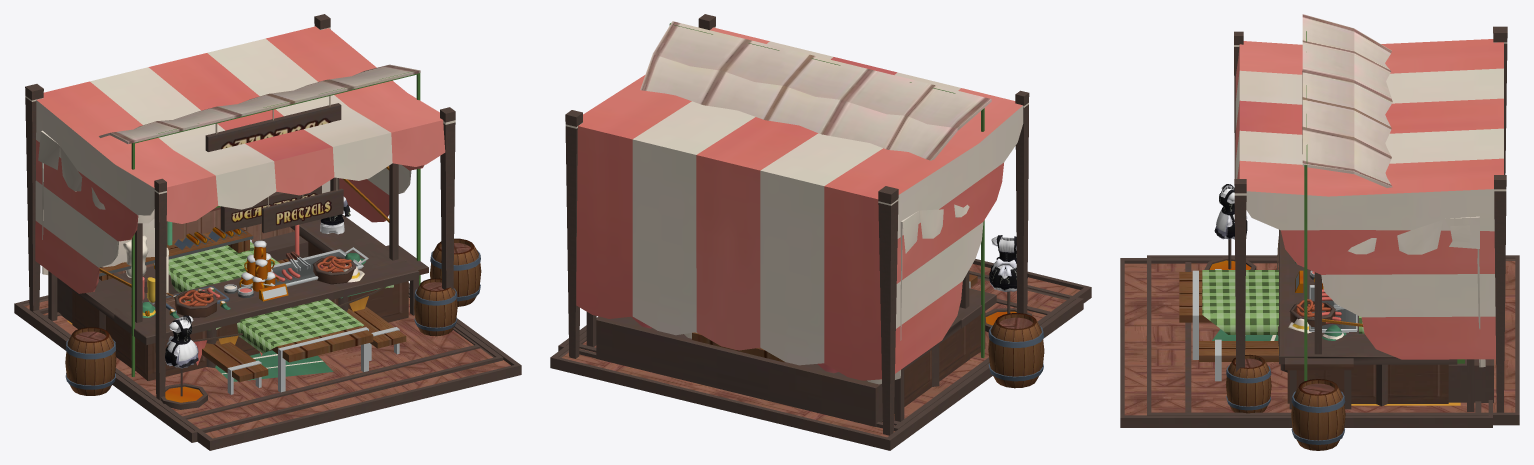
Rendered from props.glb.
3 renders of one model, left to right at view 1: azimuth 30°, elevation 25°; view 2: azimuth 150°, elevation 25°; view 3: azimuth 270°, elevation 25°, orthographic. The views are drawn at different scales.
Visible parts, largest first — view 1: Booth_Pretzelgame, Booth_Food02, Booth_Wearables, Table_Dinner, Barrel_Beer_Mountain, Booth_Wearables_Platform01; view 2: Booth_Pretzelgame, Booth_Food02, Booth_Wearables, Table_Dinner; view 3: Booth_Pretzelgame, Booth_Wearables, Booth_Food02, Table_Dinner.
Boxes of the visible parts, <box> form: Booth_Pretzelgame: <box>14,14,503,442</box>; Booth_Food02: <box>45,64,480,419</box>; Booth_Wearables: <box>32,130,521,450</box>; Table_Dinner: <box>146,241,406,394</box>; Barrel_Beer_Mountain: <box>239,240,278,291</box>; Booth_Wearables_Platform01: <box>160,383,207,409</box>; Booth_Pretzelgame: <box>550,14,1083,450</box>; Booth_Food02: <box>579,21,1050,425</box>; Booth_Wearables: <box>558,204,1091,431</box>; Table_Dinner: <box>692,274,977,362</box>; Booth_Pretzelgame: <box>1147,26,1519,425</box>; Booth_Wearables: <box>1120,184,1492,450</box>; Booth_Food02: <box>1185,14,1481,412</box>; Table_Dinner: <box>1179,269,1364,381</box>.
Size of what is drawn, in the model's own units: 8.68 by 4.95 by 6.97.
Materials: 16 (15 with a texture image).
